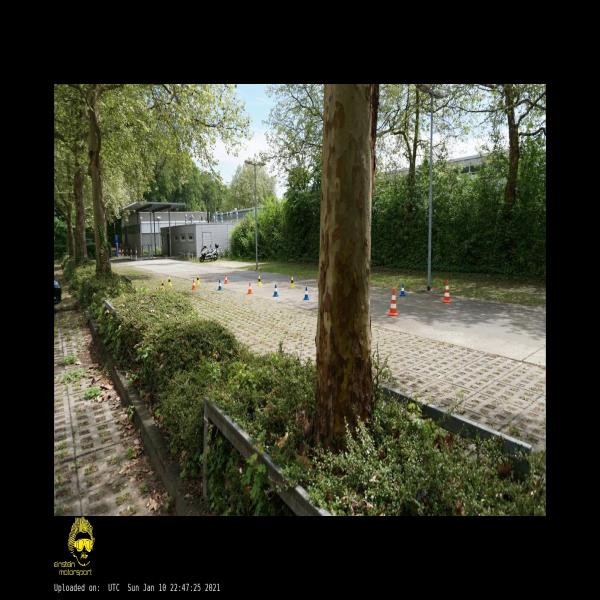blue_cone: (302, 287, 310, 300), (400, 284, 406, 296), (273, 284, 279, 296), (218, 280, 222, 290)
large_orange_cone: (388, 288, 398, 315), (442, 280, 450, 302)
orange_cone: (247, 283, 253, 294), (192, 279, 196, 290), (224, 275, 228, 284)
yellow_cone: (195, 274, 201, 284), (167, 276, 172, 286), (257, 276, 262, 286), (290, 278, 295, 288), (162, 280, 164, 288)
